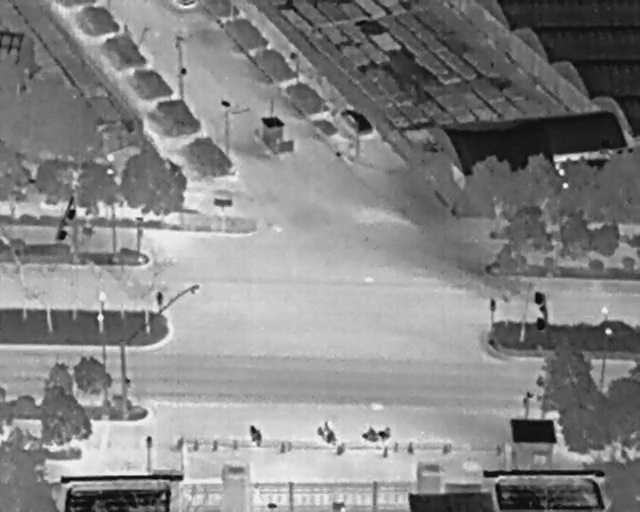Bicycle: (312, 417, 344, 450), (360, 425, 392, 443)
Car: (338, 98, 378, 143)
